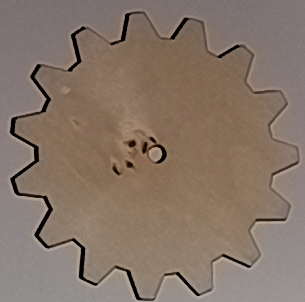Points: (109, 163, 121, 178), (124, 137, 137, 149), (140, 141, 149, 153), (124, 160, 134, 170), (149, 135, 157, 146)
